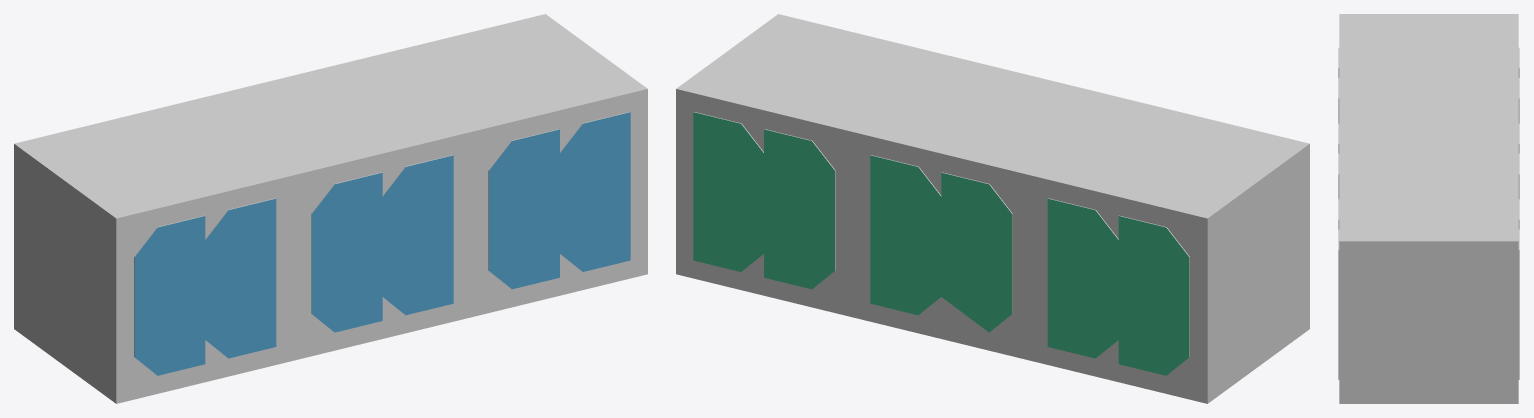
File: 3U_SP2Sides.dae
3 renders of one model, left to right at view 1: azimuth 30°, elevation 25°; view 2: azimuth 150°, elevation 25°; view 3: azimuth 270°, elevation 25°, orthographic. The views are drawn at different scales.
Visible parts, largest first — view 1: _U_SP2Sides, Y_Minus_Cells; view 2: _U_SP2Sides, Y_Plus_Cells; view 3: _U_SP2Sides.
Boxes of the visible parts, <box> form: _U_SP2Sides: <box>14,14,647,403</box>; Y_Minus_Cells: <box>134,112,630,375</box>; _U_SP2Sides: <box>676,14,1309,403</box>; Y_Plus_Cells: <box>693,112,1189,375</box>; _U_SP2Sides: <box>1338,14,1519,403</box>.
Bounding box in the file's own units: 0.3 × 0.101 × 0.1.
